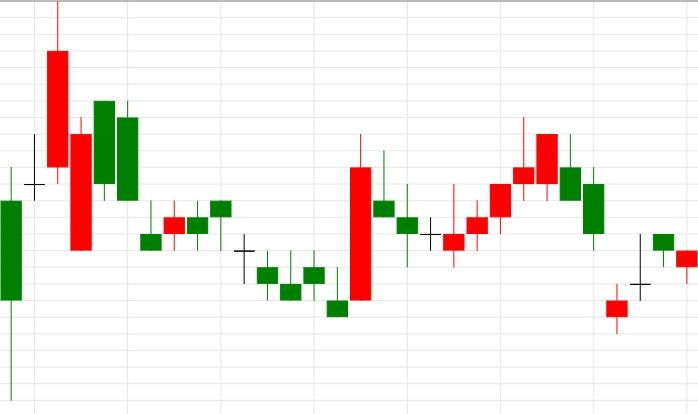hanging_man_fall: (139, 199, 232, 252)
inverse_hammer_rise: (209, 200, 349, 319), (93, 100, 163, 252)
three_white_soldiers_rise: (349, 134, 512, 301)
